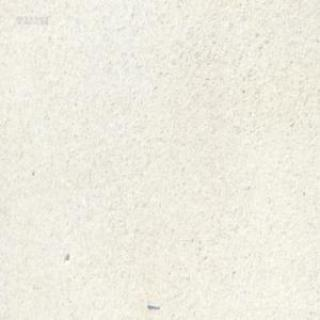Nailtrack_idkeyframe: (146, 299, 158, 308)
